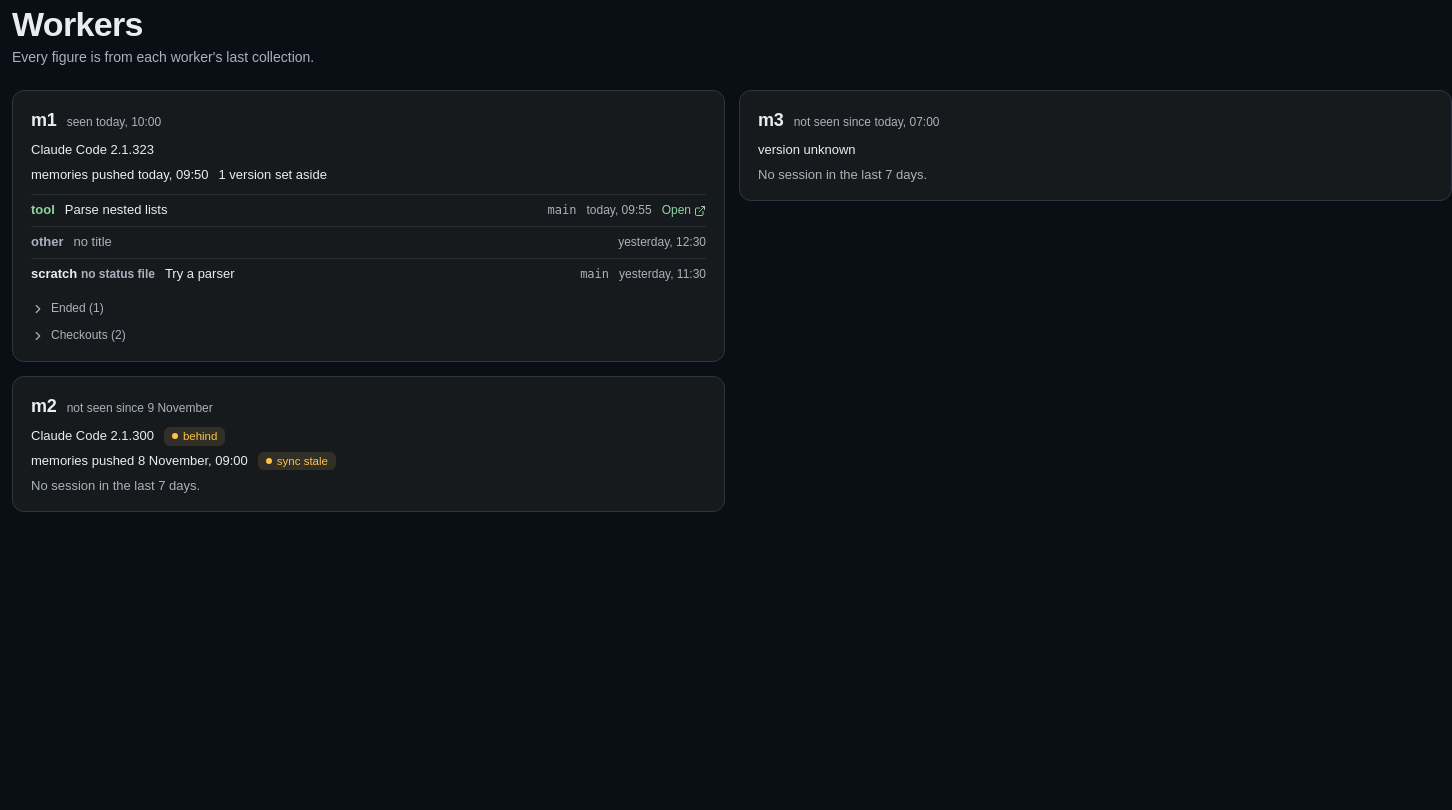
it: checkouts are folded until asked for
This screenshot has width=1452, height=810.
Expected: the text "unpushed work" is not shown
Click the button "Checkouts (2)".
click(78, 336)  # box [31,327,126,345]
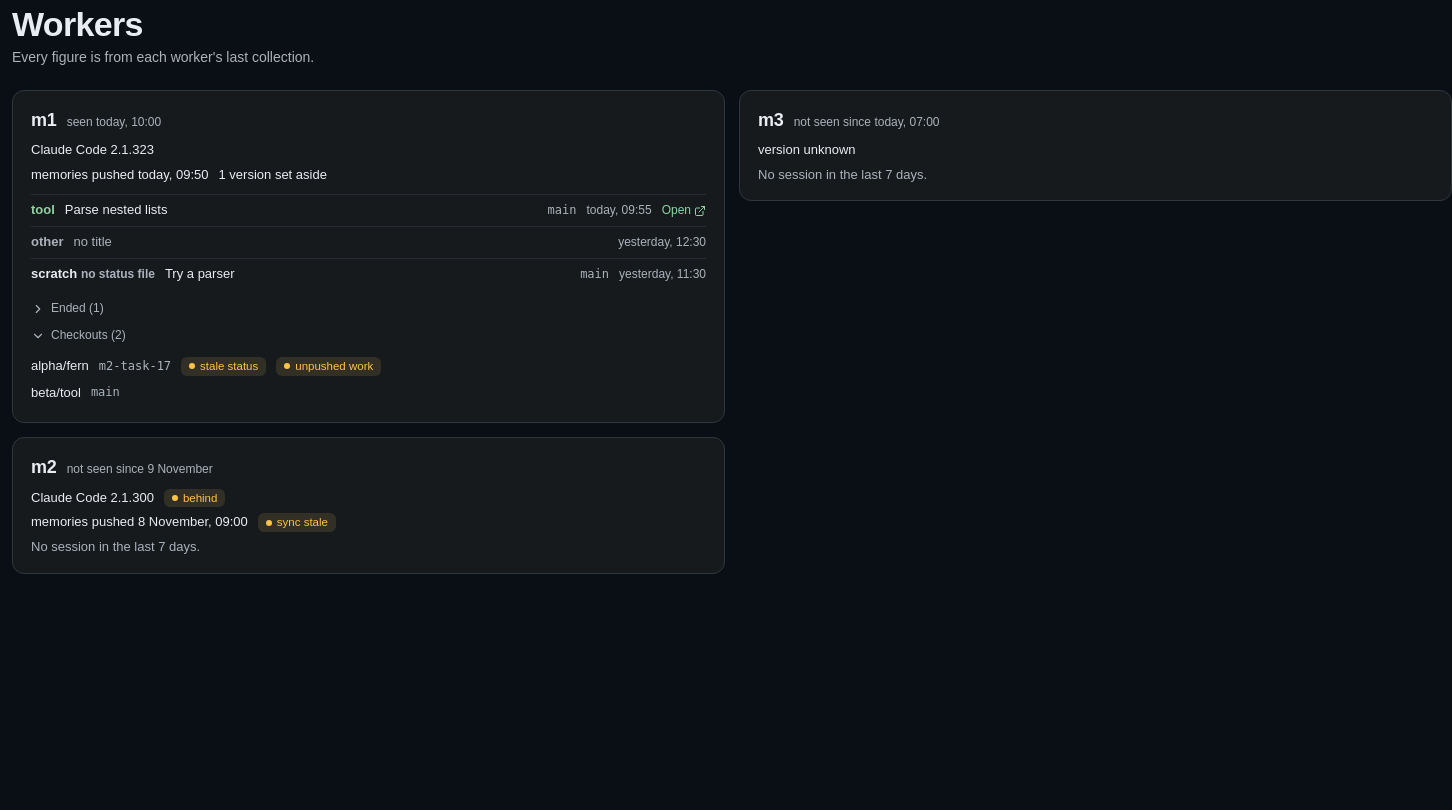
Expected: the button "Checkouts (2)" is expanded, [31,327,126,345]
Expected: the text "m2-task-17" is shown, [99,358,171,375]
Expected: the text "unpushed work" is shown, [276,357,381,376]
